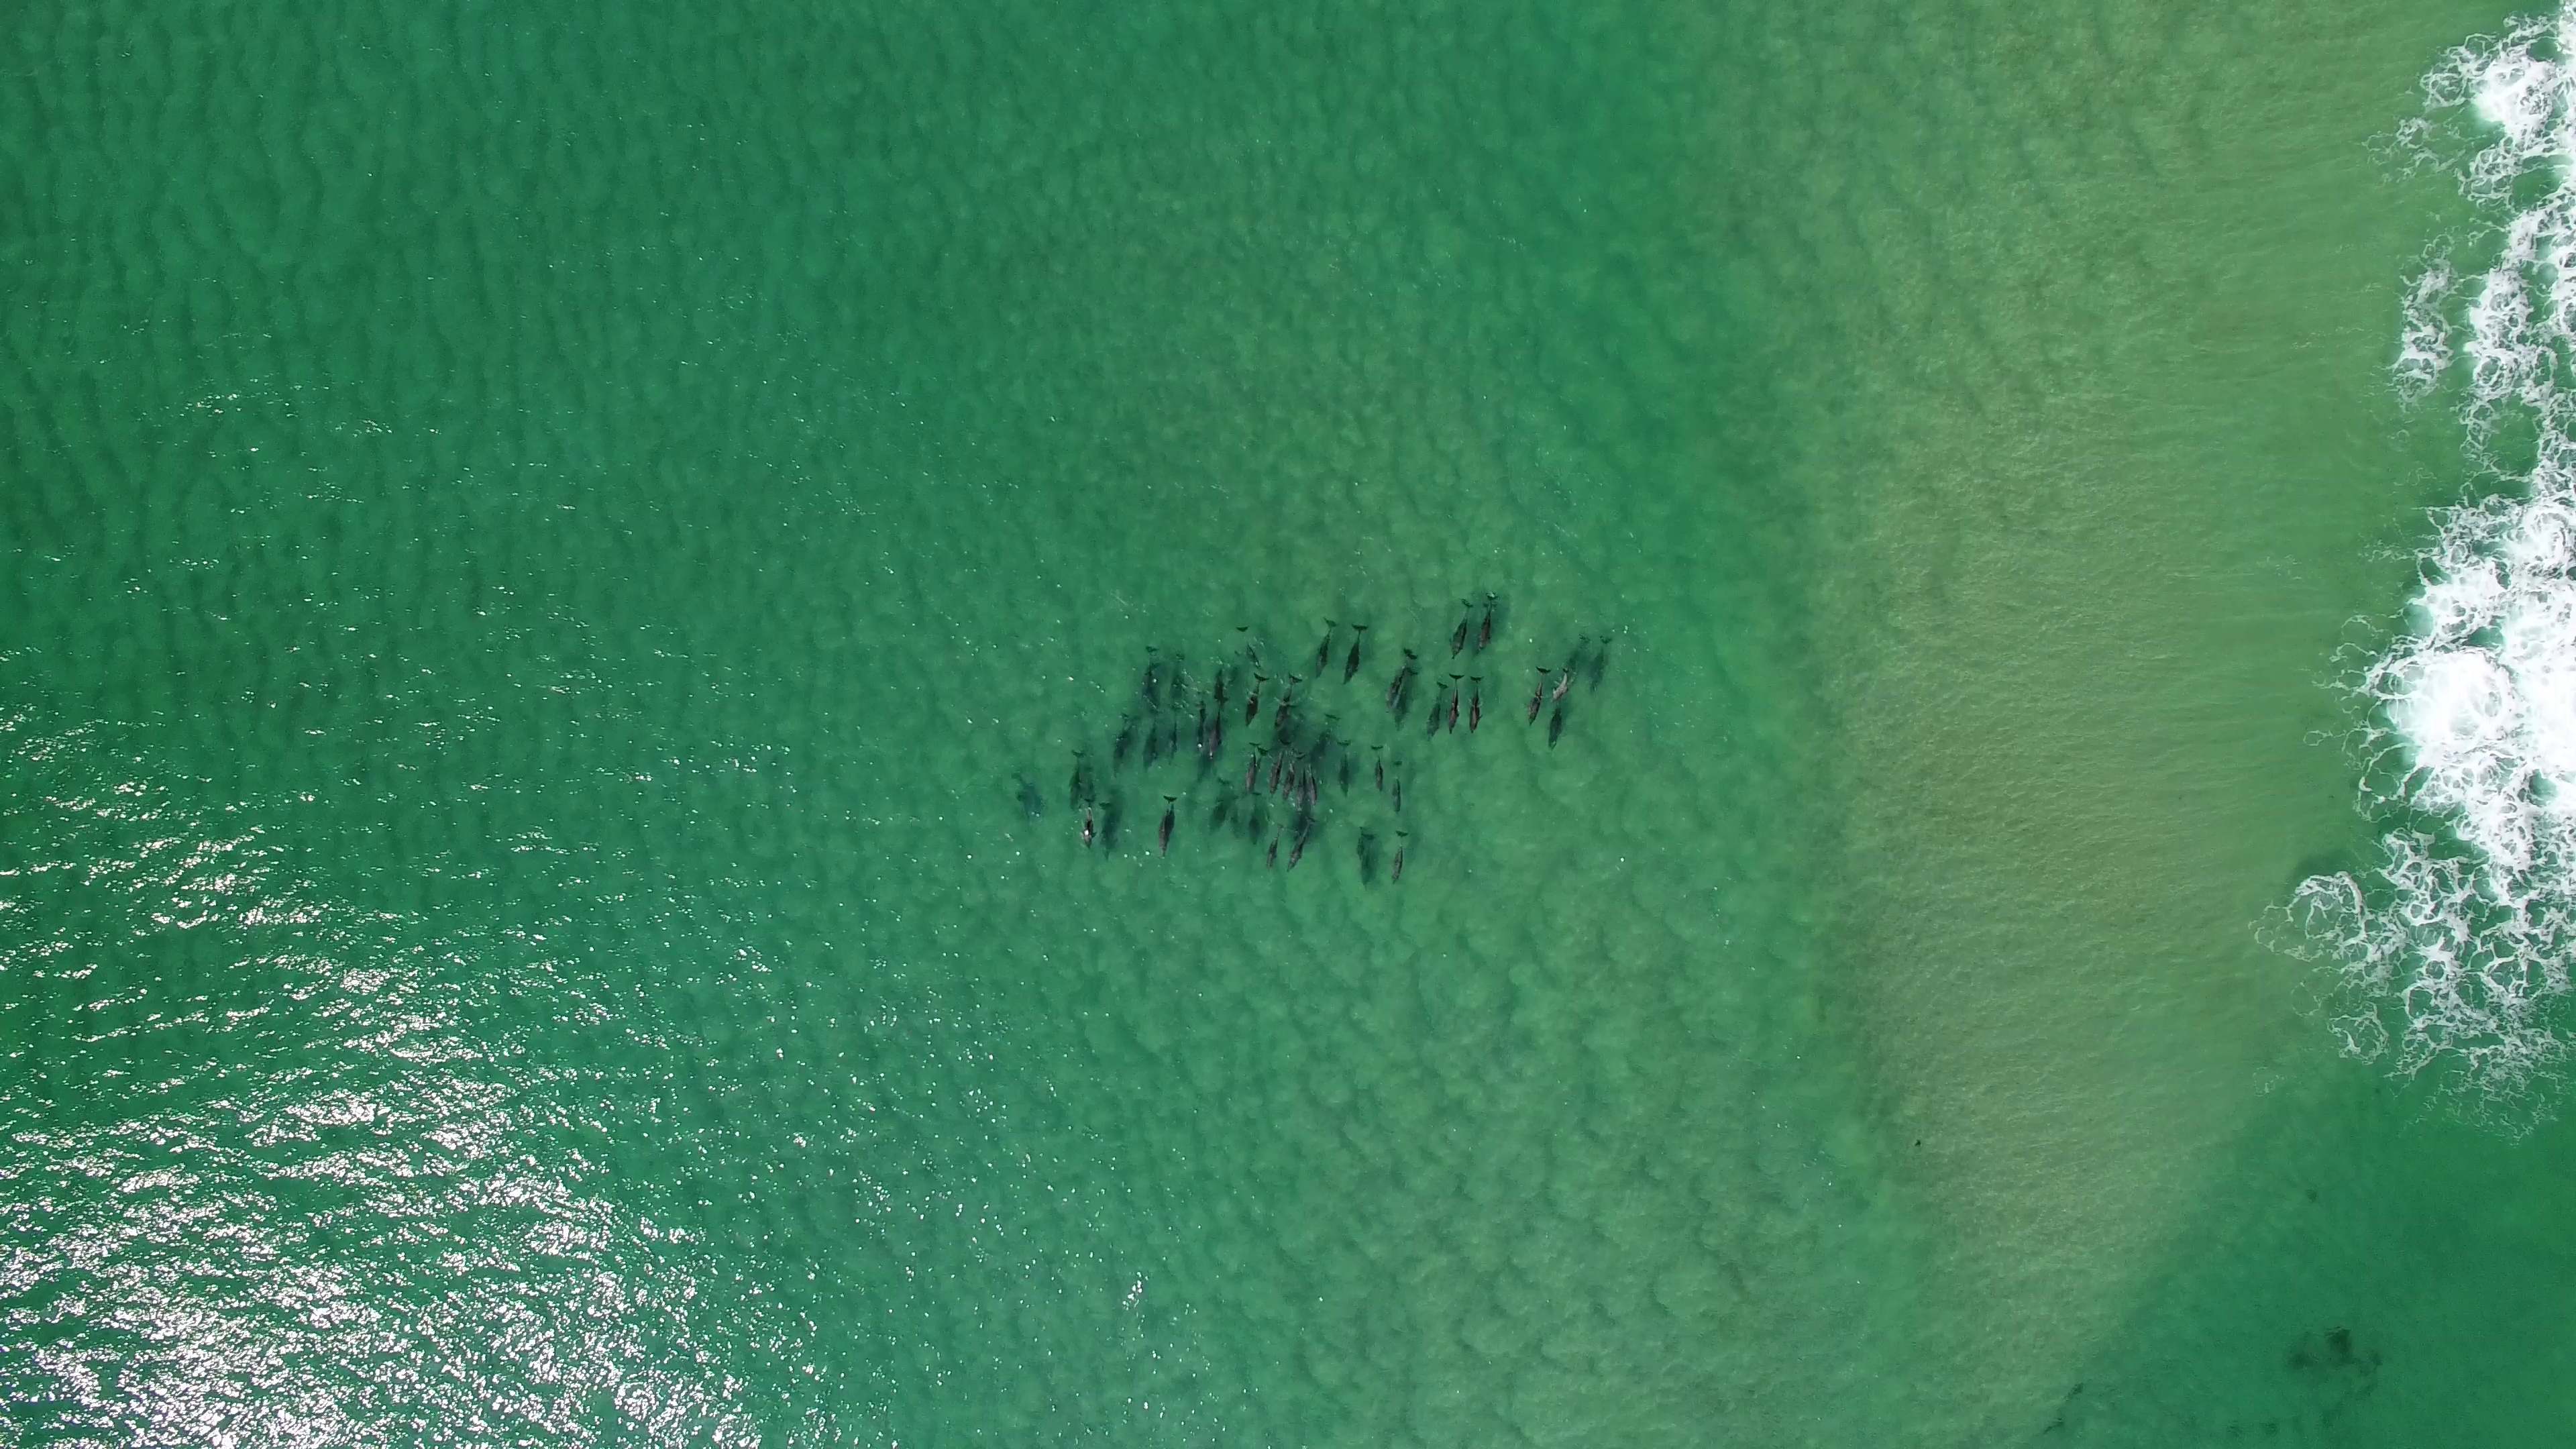dolphin: (1380, 644, 1419, 715), (1339, 617, 1371, 686), (1391, 663, 1421, 731), (1445, 596, 1474, 663), (1313, 614, 1339, 683), (1523, 665, 1552, 727), (1274, 669, 1302, 731), (1205, 692, 1230, 763), (1288, 814, 1316, 872), (1159, 789, 1182, 860), (1109, 709, 1134, 775), (1587, 633, 1614, 694), (1283, 743, 1309, 801), (1426, 678, 1449, 743), (1208, 775, 1233, 833), (1143, 644, 1162, 717), (1233, 625, 1265, 669), (1541, 701, 1569, 750), (1139, 709, 1161, 775), (1244, 669, 1267, 729), (1313, 711, 1339, 763), (1479, 589, 1500, 653), (1357, 830, 1376, 897), (1267, 738, 1286, 801), (1445, 671, 1465, 732), (1389, 830, 1410, 886), (1244, 789, 1265, 846), (1277, 708, 1307, 747), (1389, 757, 1407, 821), (1164, 701, 1180, 768), (1468, 671, 1484, 736), (1070, 748, 1086, 814), (1265, 819, 1284, 872), (1244, 738, 1260, 800), (1099, 800, 1115, 860), (1194, 690, 1208, 755), (1297, 752, 1311, 816), (1550, 667, 1573, 704), (1338, 736, 1352, 796), (1353, 824, 1371, 872), (1079, 798, 1092, 853), (1373, 743, 1385, 796), (1215, 658, 1226, 720), (1307, 757, 1316, 810)
